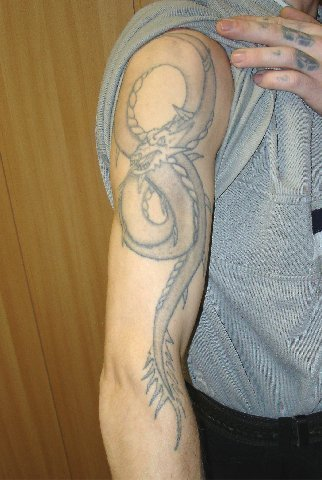tatu6_drakon: (106, 21, 219, 451)
